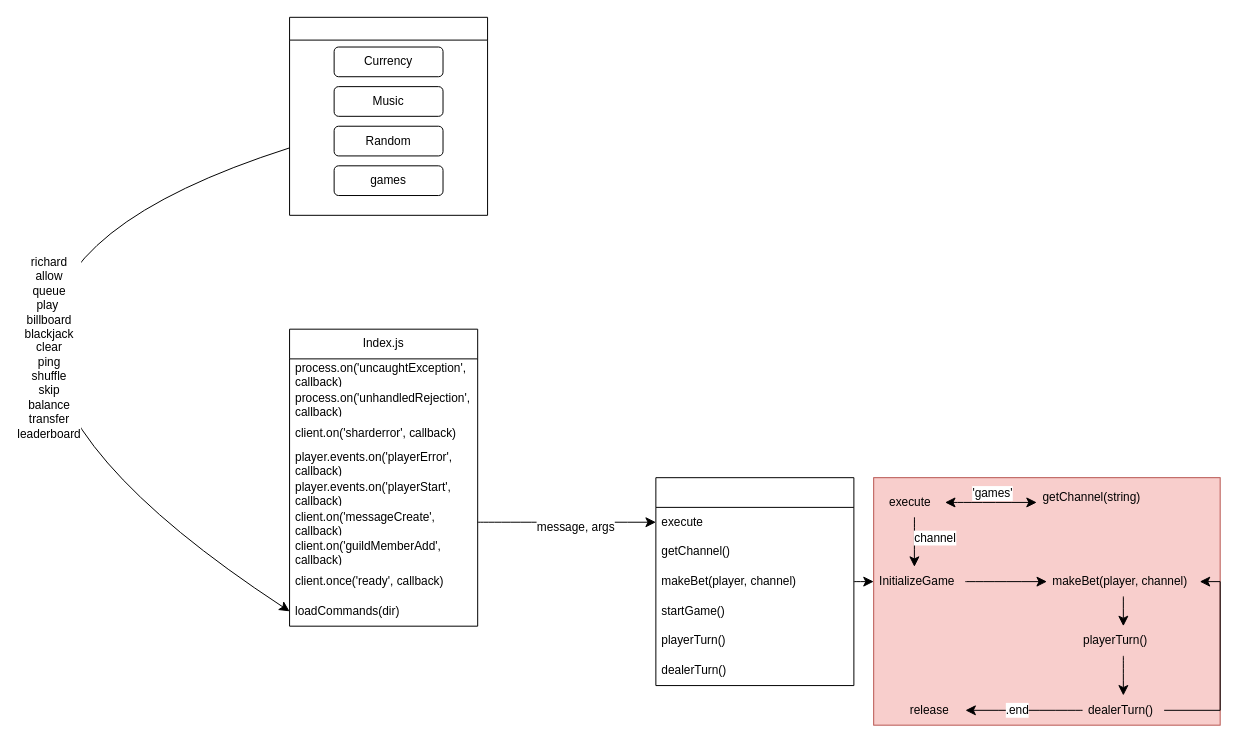
The diagram is 1247 pixels wide and 743 high, and some of its shapes have lost their labels. The box of each missing label's shape, as (x1, y1, x2, y2) in pixels:
Blackjack.js: (655, 477, 854, 686)
Commands: (289, 16, 488, 215)
